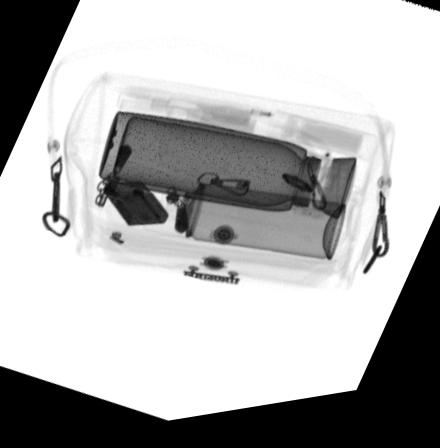Lighter: (101, 183, 169, 230)
Sprayer: (136, 178, 344, 270)
